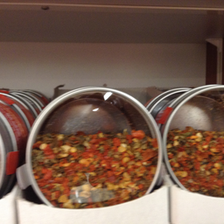spices: (24, 86, 162, 208), (164, 85, 224, 198)
